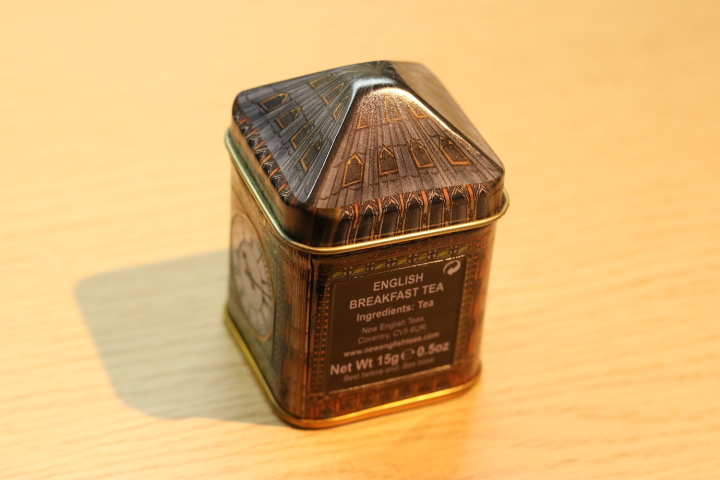Big Ben: (212, 52, 527, 440)
